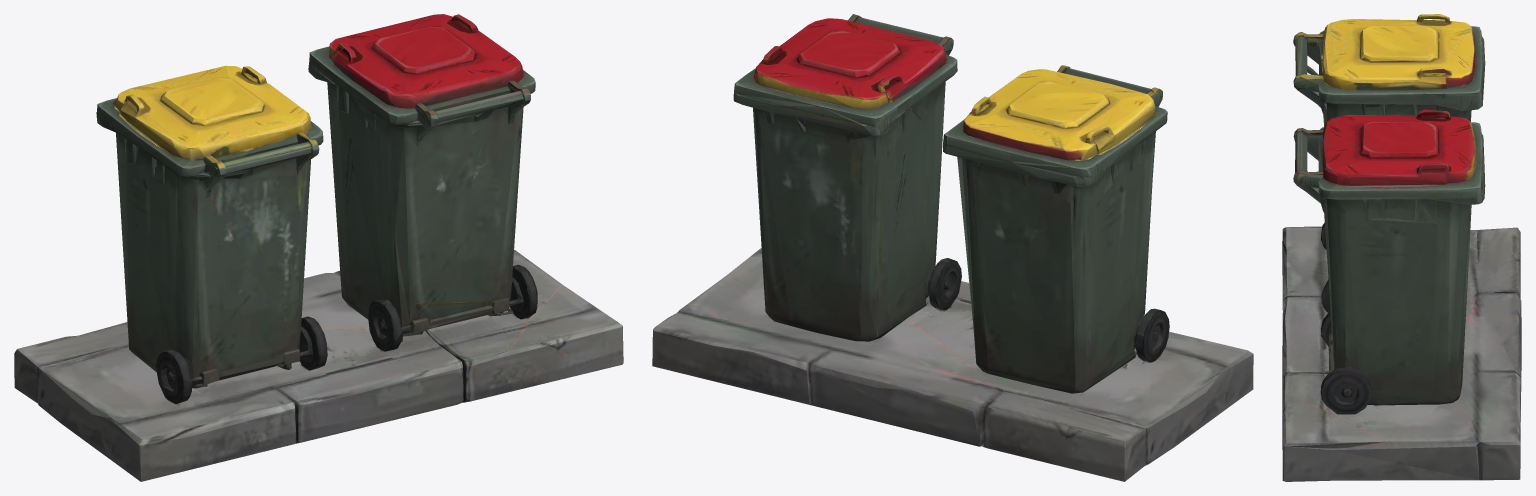
File: wheelie_bins.glb
3 renders of one model, left to right at view 1: azimuth 30°, elevation 25°; view 2: azimuth 150°, elevation 25°; view 3: azimuth 270°, elevation 25°, orthographic. The views are drawn at different scales.
Size of the model in its own units: 1.9 by 1.15 by 0.8767.
1 material, 1 textured.
